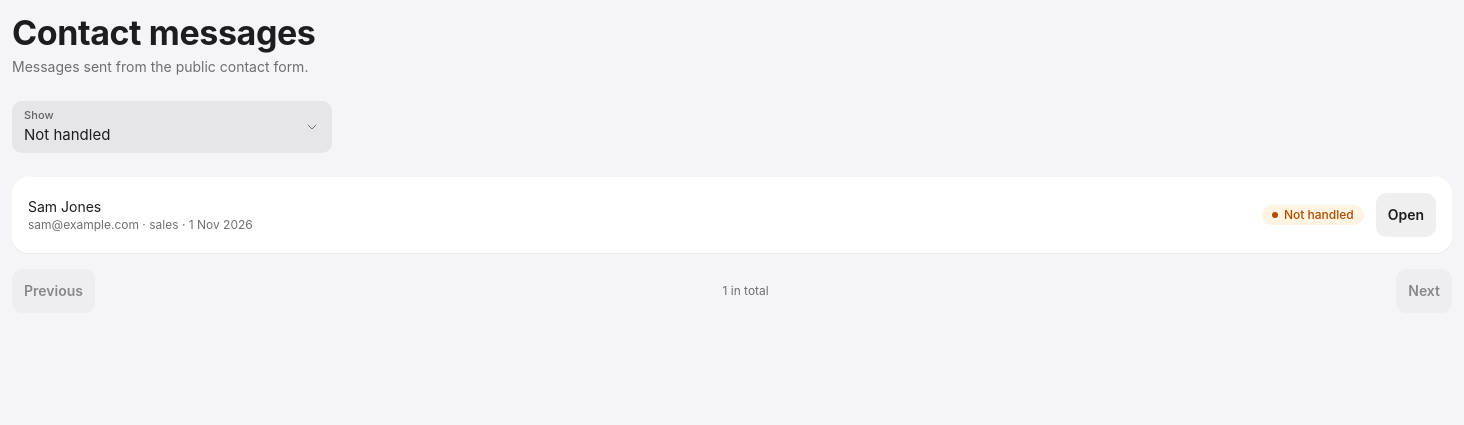
Test: ContactAdmin › opens a message and marks it handled, which removes it from the not handled list
The width and height of the screenshot is (1464, 425).
Step 1. Click the button "Open" → click(1406, 215), box x1=1376 y1=193 x2=1436 y2=237
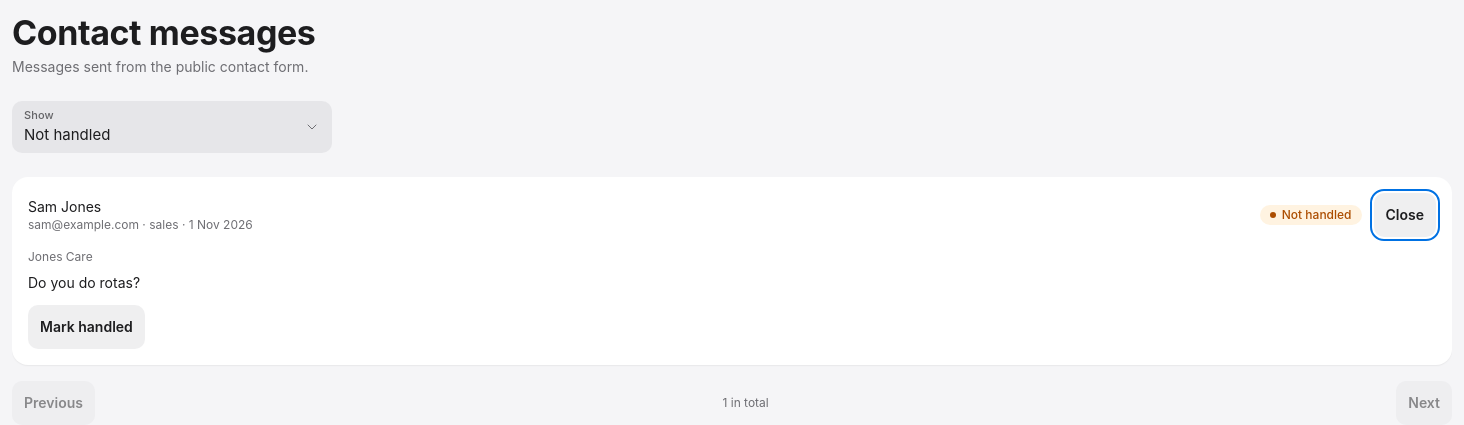
Check: the text "Do you do rotas?" is shown, box x1=28 y1=274 x2=140 y2=291
Step 2. Click the button "Mark handled" → click(86, 327), box x1=28 y1=305 x2=145 y2=349
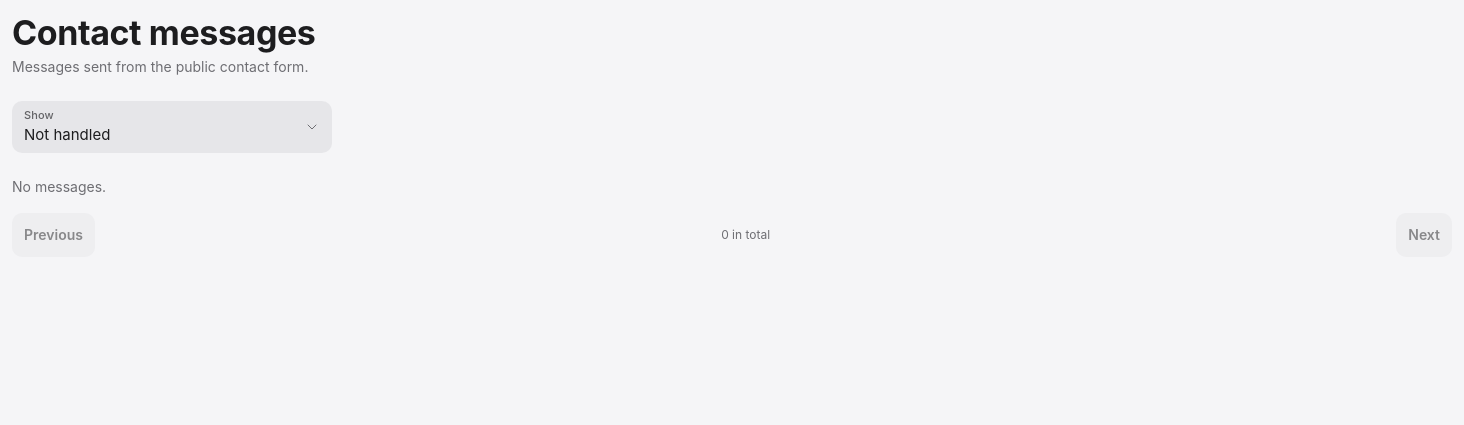
Check: the text "No messages." is shown, box x1=12 y1=178 x2=106 y2=195
